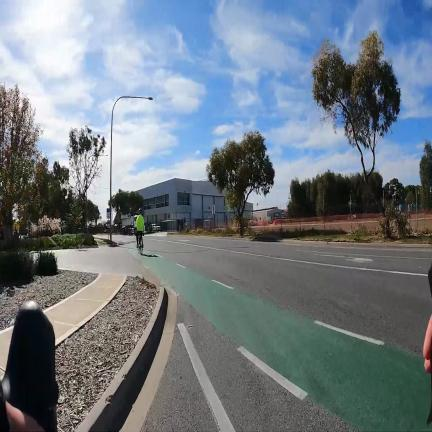Green_Bike_Lane: (129, 249, 431, 432)
